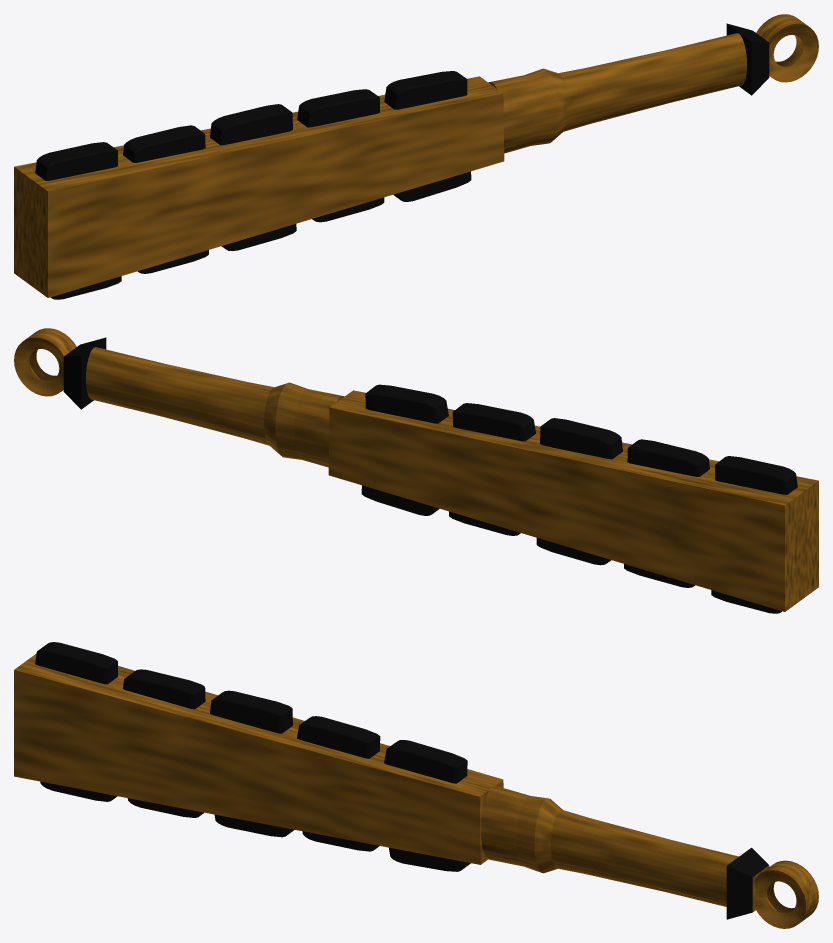
The model's file is macahuitl.glb.
The picture shows the model from 3 angles, top to bottom: view 1: azimuth 30°, elevation 25°; view 2: azimuth 150°, elevation 25°; view 3: azimuth 330°, elevation 25°; orthographic projection.
Visible parts, largest first — view 1: Cylinder.001; view 2: Cylinder.001; view 3: Cylinder.001.
Part boxes in pixels (bbox=[...]): Cylinder.001: bbox=[14, 14, 818, 299]; Cylinder.001: bbox=[14, 328, 818, 613]; Cylinder.001: bbox=[14, 642, 818, 928].
Size of the model in its own units: 76.36 by 13.04 by 5.74.
Materials: 2 (2 with a texture image).
